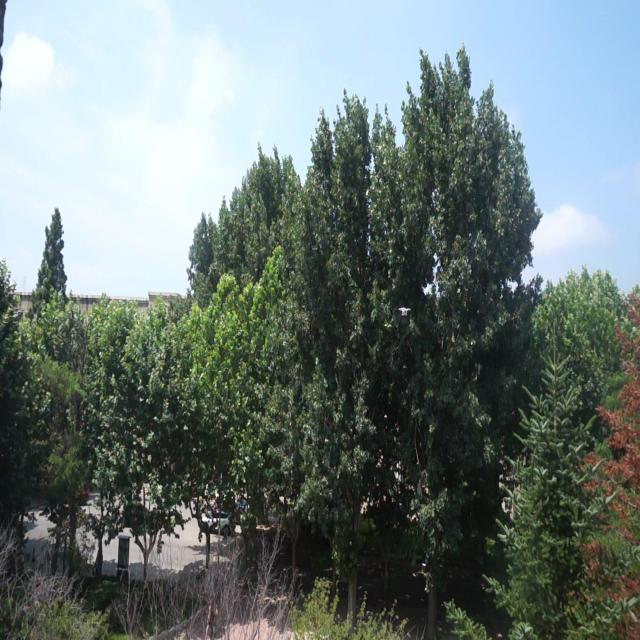drone: (397, 301, 412, 322)
